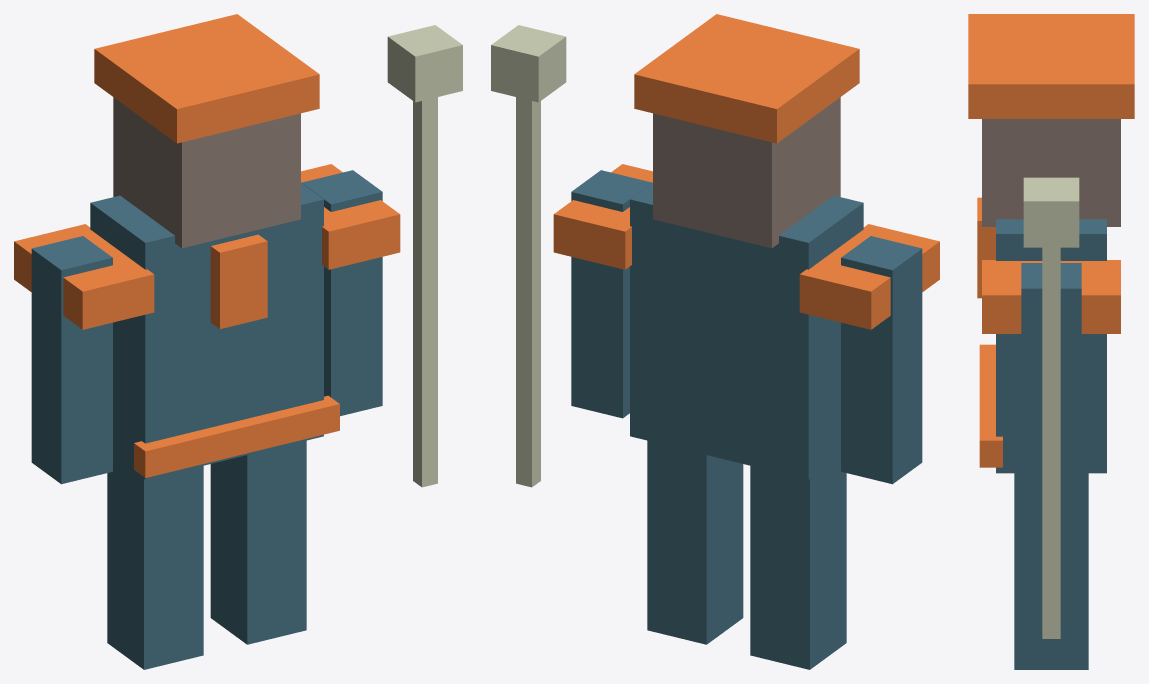
The model's file is 14_eryk_latchward_mechanist_under_floodlock.glb.
3 renders of one model, left to right at view 1: azimuth 30°, elevation 25°; view 2: azimuth 150°, elevation 25°; view 3: azimuth 270°, elevation 25°, orthographic.
Visible parts, largest first — view 1: Eryk Latchward, Mechanist under Floodlock; view 2: Eryk Latchward, Mechanist under Floodlock; view 3: Eryk Latchward, Mechanist under Floodlock.
Part boxes in pixels (x1,y1,x2,y2): Eryk Latchward, Mechanist under Floodlock: (14, 14, 462, 669); Eryk Latchward, Mechanist under Floodlock: (491, 14, 939, 669); Eryk Latchward, Mechanist under Floodlock: (968, 14, 1134, 669).
Bounding box in the file's own units: 1.07 × 1.46 × 0.3793.
